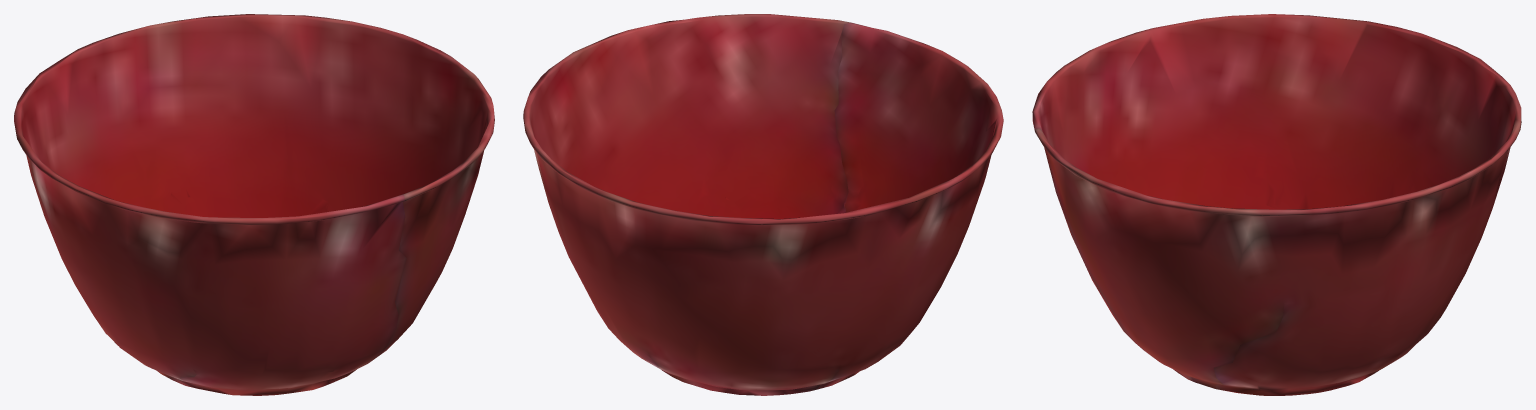
File: Bradshaw_International_11642_7_Qt_MP_Plastic_Bowl-medium.glb
3 views of the same model, side by side, from view 1: azimuth 30°, elevation 25°; view 2: azimuth 150°, elevation 25°; view 3: azimuth 270°, elevation 25° (orthographic).
Parts seen in each view (by area): view 1: Bradshaw_International_11642_7_Qt_MP_Plastic_Bowl; view 2: Bradshaw_International_11642_7_Qt_MP_Plastic_Bowl; view 3: Bradshaw_International_11642_7_Qt_MP_Plastic_Bowl.
Part boxes in pixels (x1,y1,x2,y2): Bradshaw_International_11642_7_Qt_MP_Plastic_Bowl: (14, 14, 494, 395); Bradshaw_International_11642_7_Qt_MP_Plastic_Bowl: (523, 14, 1003, 395); Bradshaw_International_11642_7_Qt_MP_Plastic_Bowl: (1032, 14, 1521, 395).
Bounding box in the file's own units: 0.2824 × 0.1542 × 0.2846.
1 material, 1 textured.
